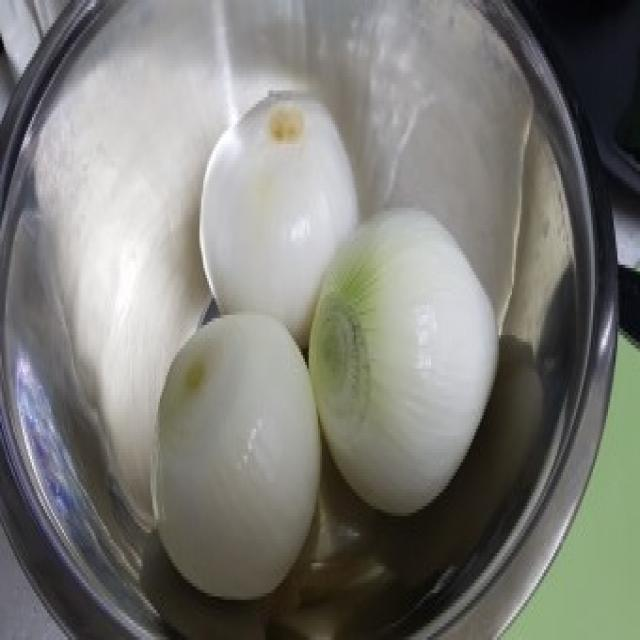onion: (315, 208, 516, 516), (134, 307, 323, 595), (180, 71, 344, 336)
